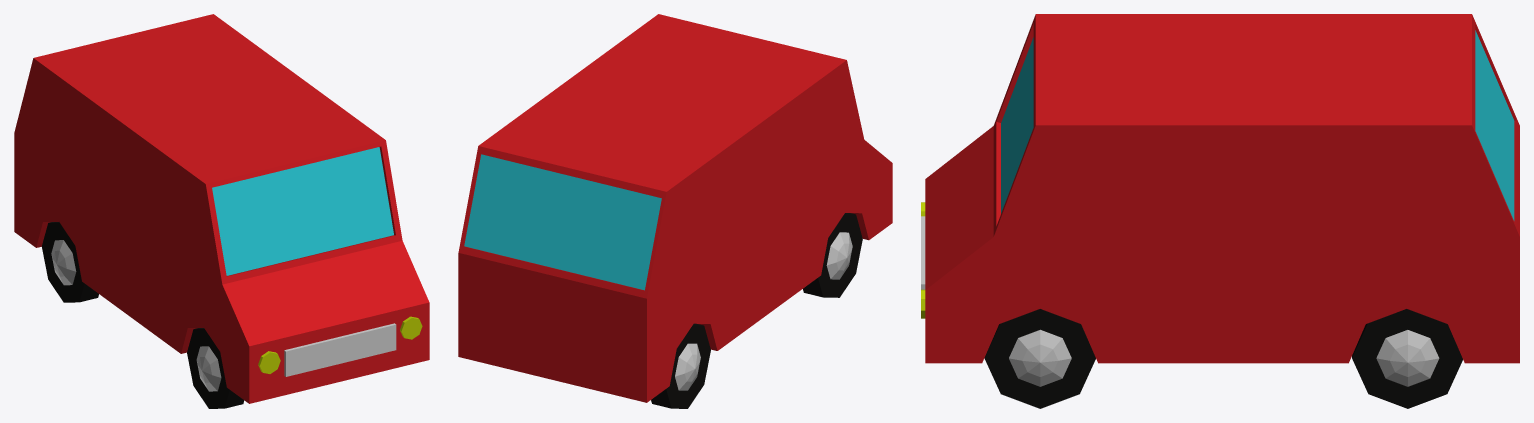
File: van.fbx
The picture shows the model from 3 angles, left to right: view 1: azimuth 30°, elevation 25°; view 2: azimuth 150°, elevation 25°; view 3: azimuth 270°, elevation 25°; orthographic projection. The views are drawn at different scales.
Visible parts, largest first — view 1: Plane; view 2: Plane; view 3: Plane.
Boxes of the visible parts, left/top/right/bottom form: Plane: left=14, top=14, right=429, bottom=408; Plane: left=458, top=14, right=892, bottom=408; Plane: left=921, top=14, right=1519, bottom=408.
Bounding box in the file's own units: 239 × 285 × 537.
